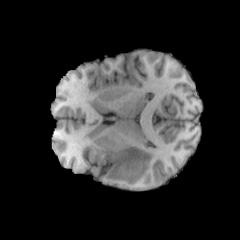glioma: (108, 145, 154, 182)
